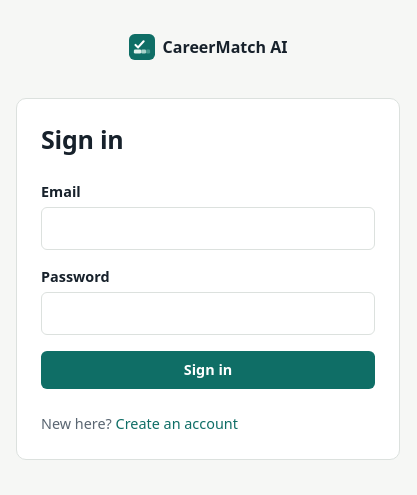
Test: Routing › shows server errors on sign in
Type "a@example.com" into the field labelled "Email". click: coordinates (208, 228)
box: [41,207,375,250]
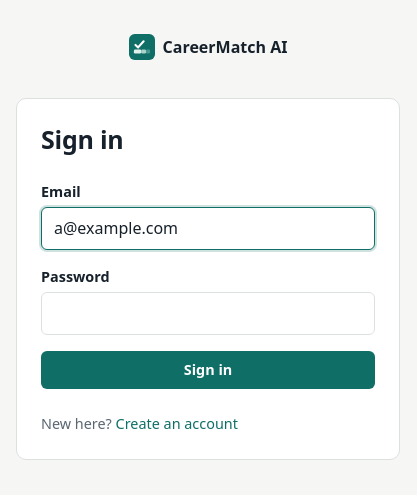
Type "wrong-pass1" into the password field labelled "Password". click: coordinates (208, 314)
box: [41,292,375,335]
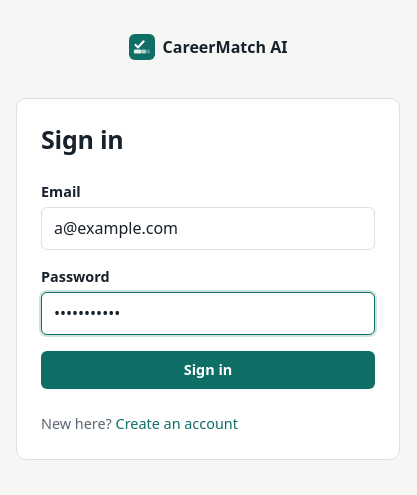
Click the button "Sign in". click: coordinates (208, 370)
box: [41,351,375,389]
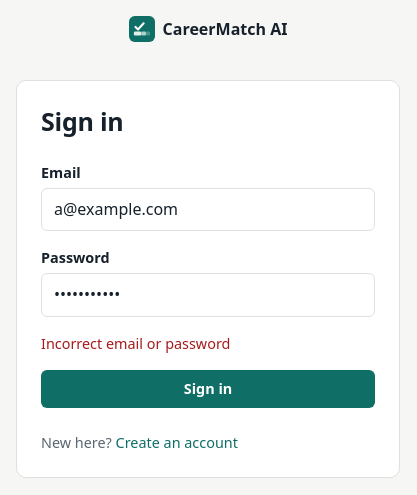
Result: the message reads "Incorrect email or password" at [41,334,230,353]
